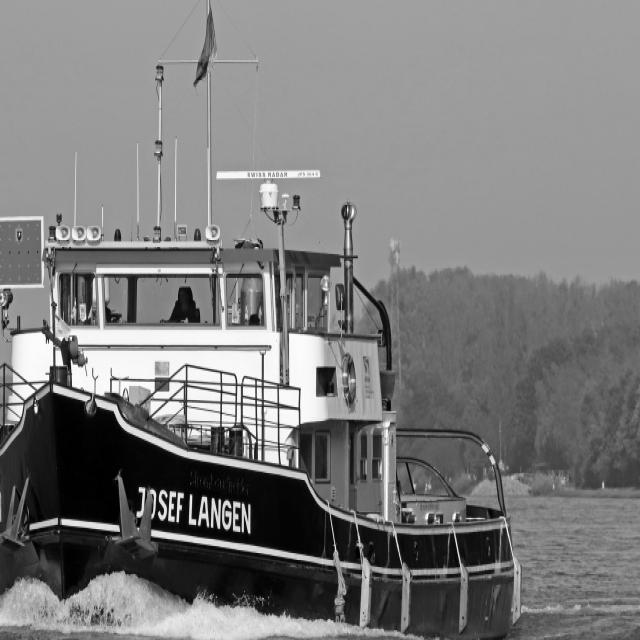tugboat: (1, 1, 531, 640)
